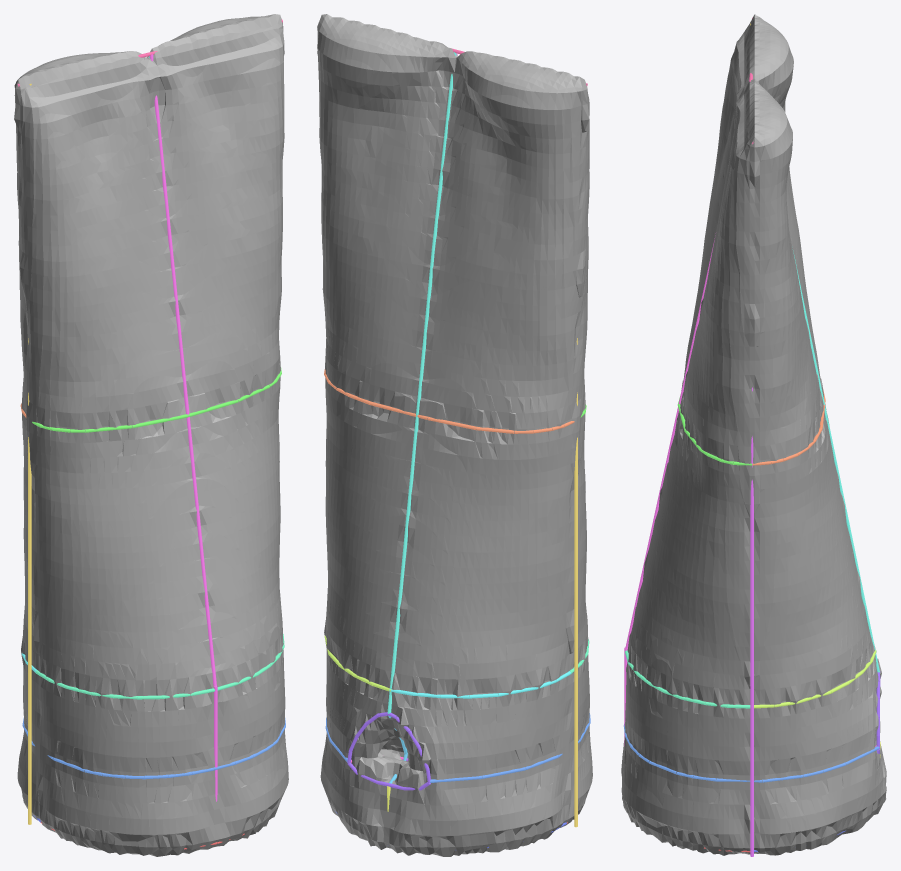
File: t2f_toothpaste.gltf
3 views of the same model, side by side, from view 1: azimuth 30°, elevation 25°; view 2: azimuth 150°, elevation 25°; view 3: azimuth 270°, elevation 25° (orthographic). The views are drawn at different scales.
Bounding box in the file's own units: 0.3425 × 0.9181 × 0.3002.
